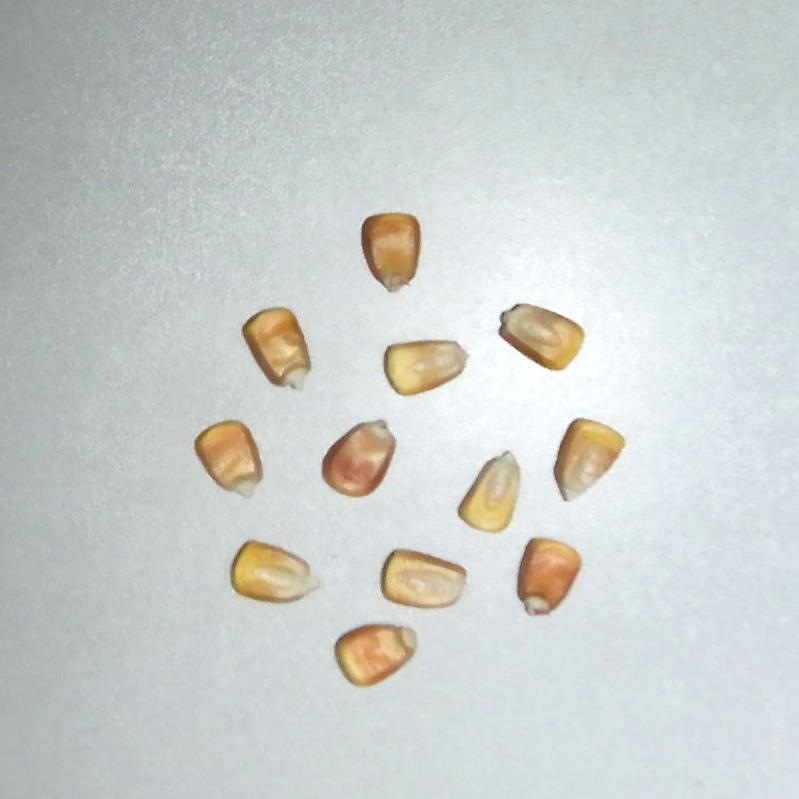corn: (312, 404, 411, 509), (535, 409, 629, 513), (237, 298, 326, 402), (489, 290, 590, 378), (328, 607, 429, 695), (223, 535, 328, 619), (374, 544, 478, 624), (454, 443, 538, 541), (190, 413, 274, 510), (503, 530, 587, 626), (361, 212, 423, 294), (383, 339, 471, 396)
